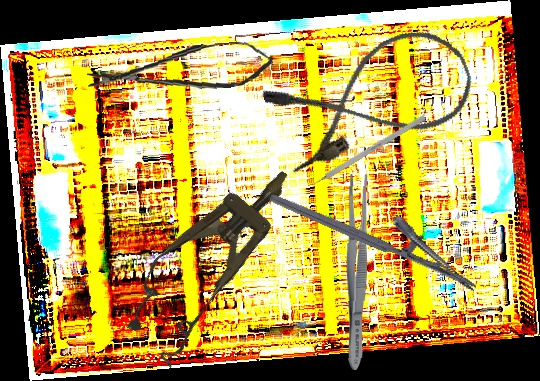Cannula: (259, 16, 483, 179)
Dressing Forceps: (342, 173, 371, 371)
Hook Surgical: (300, 114, 427, 194)
Micro Scissor: (85, 39, 275, 98)
Needle Holder: (268, 164, 490, 294)
Speculum: (108, 146, 317, 368)
